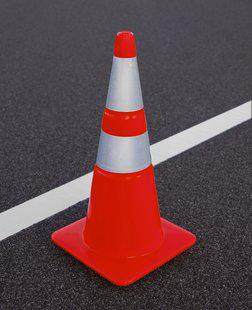traffic cone: (50, 31, 196, 287)
